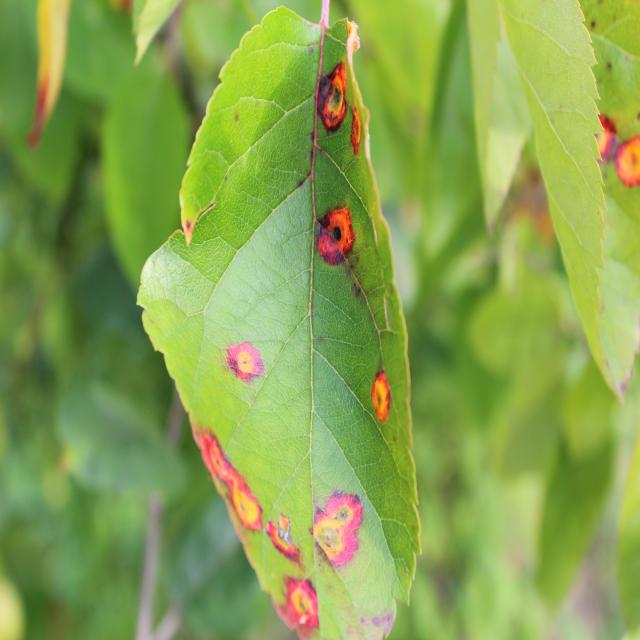Rust: (180, 400, 264, 535), (304, 489, 372, 569), (266, 573, 338, 640), (313, 194, 362, 282), (314, 52, 347, 146), (363, 361, 395, 443), (222, 323, 266, 382), (266, 506, 306, 569), (590, 100, 619, 182), (618, 111, 637, 215), (345, 98, 368, 178)
